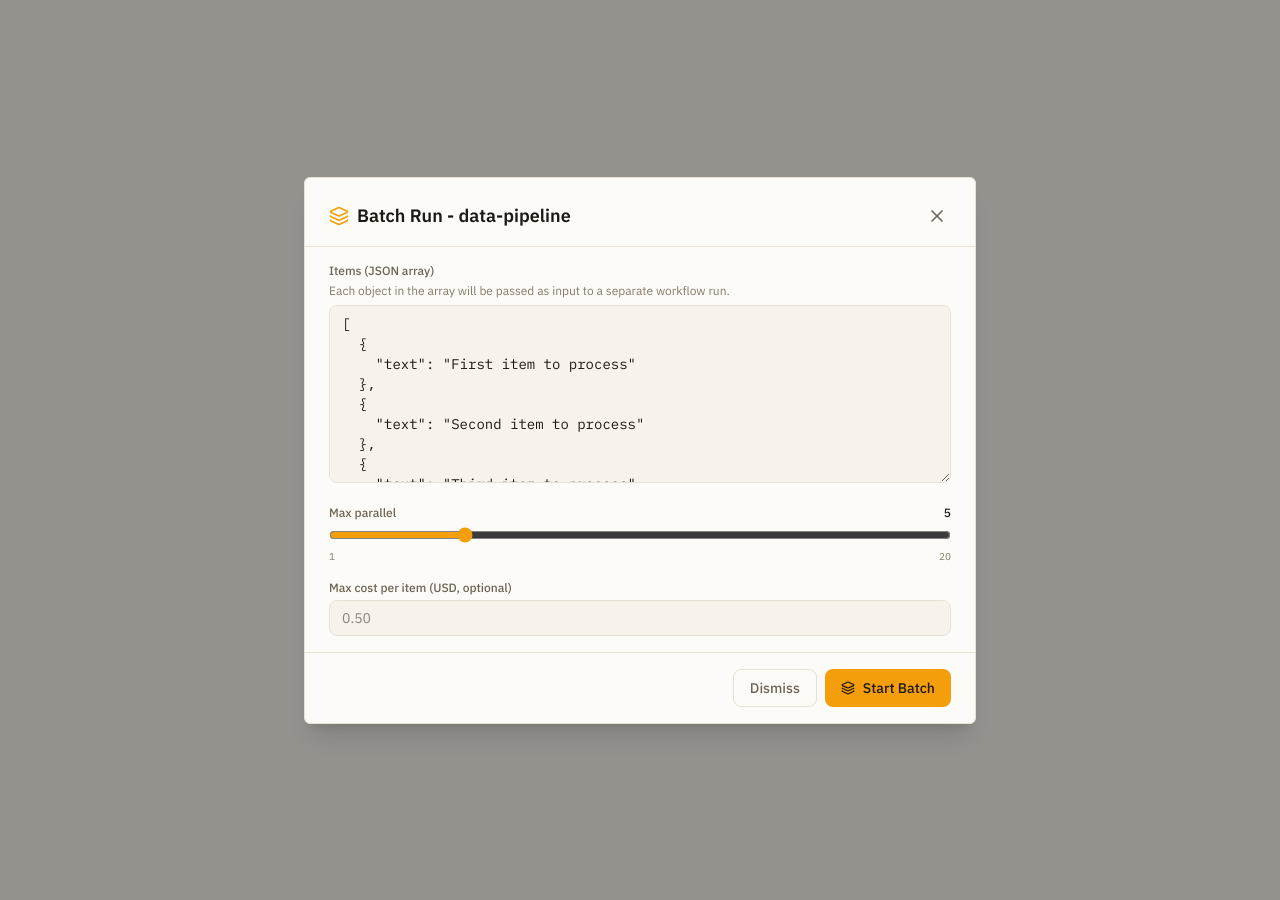
BatchRunModal › progress bar appears after batch starts
Click the button "Start Batch" at (888, 688), box 825,668 -> 951,706
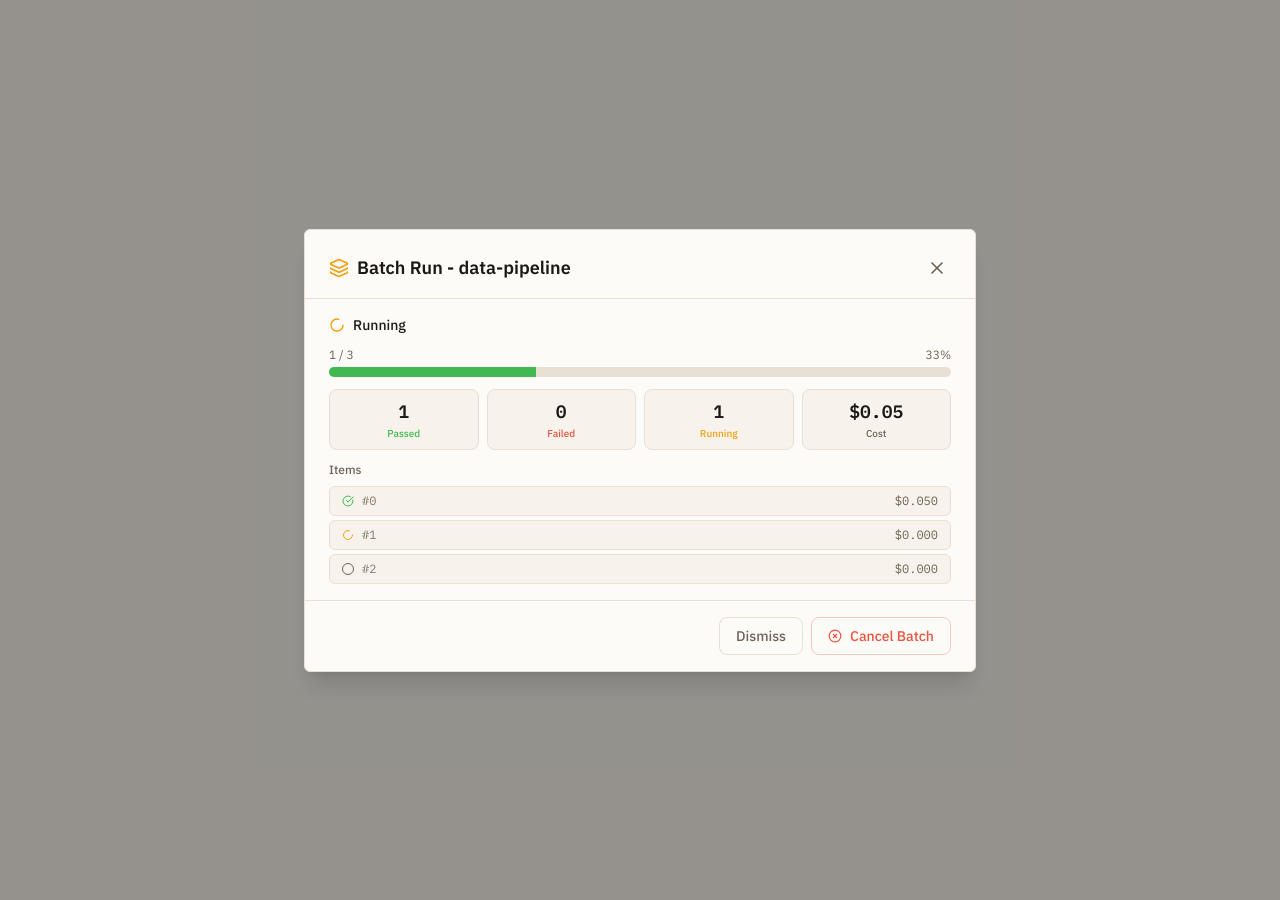
Expected: the text "1 / 3" is shown, 329,346 -> 354,362
Expected: the text "33%" is shown, 926,346 -> 951,362
